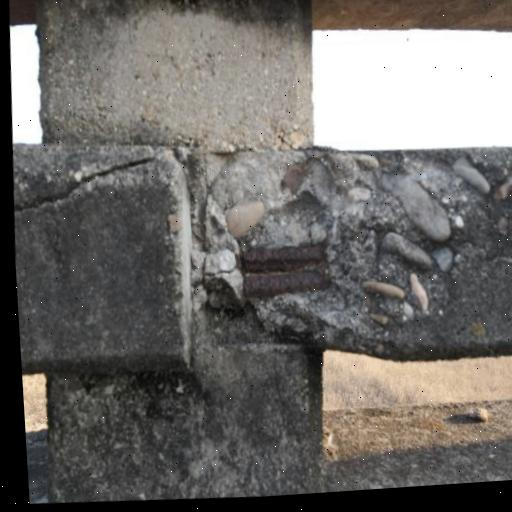exposed_rebar: (243, 271, 328, 298), (242, 245, 324, 271)
spalling: (183, 148, 512, 349)
